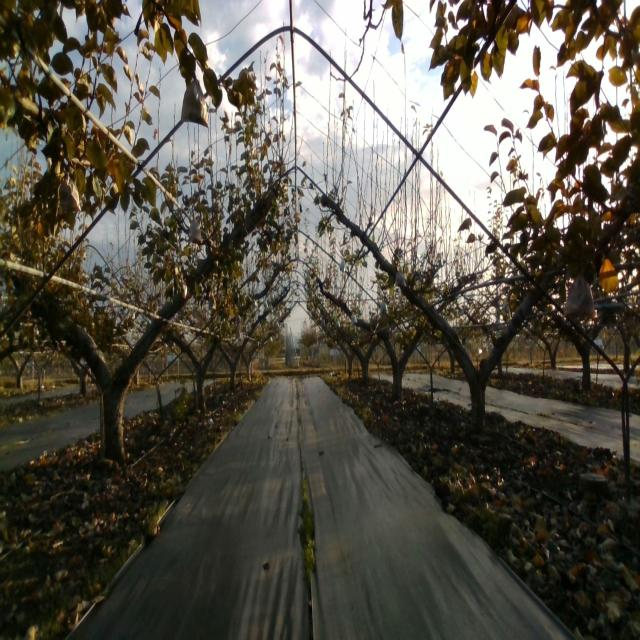pearbags: (180, 78, 210, 130), (564, 274, 595, 324), (55, 174, 82, 217), (188, 214, 202, 246), (394, 264, 407, 288)
